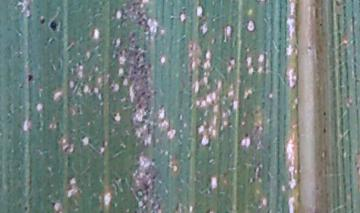tarspot: (48, 19, 59, 32), (38, 16, 46, 26), (314, 5, 319, 19), (26, 74, 33, 83), (333, 1, 341, 8), (243, 132, 250, 138), (306, 44, 313, 50), (49, 201, 56, 207), (322, 126, 327, 134), (203, 208, 211, 213), (322, 110, 327, 117), (23, 205, 28, 212), (318, 22, 324, 27)
